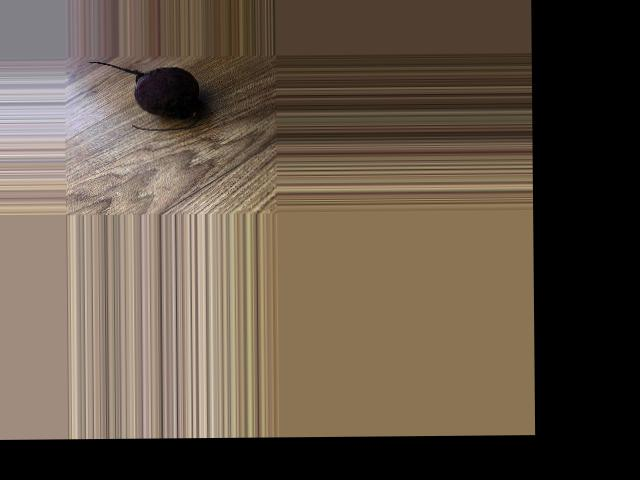beet: (88, 60, 202, 130)
